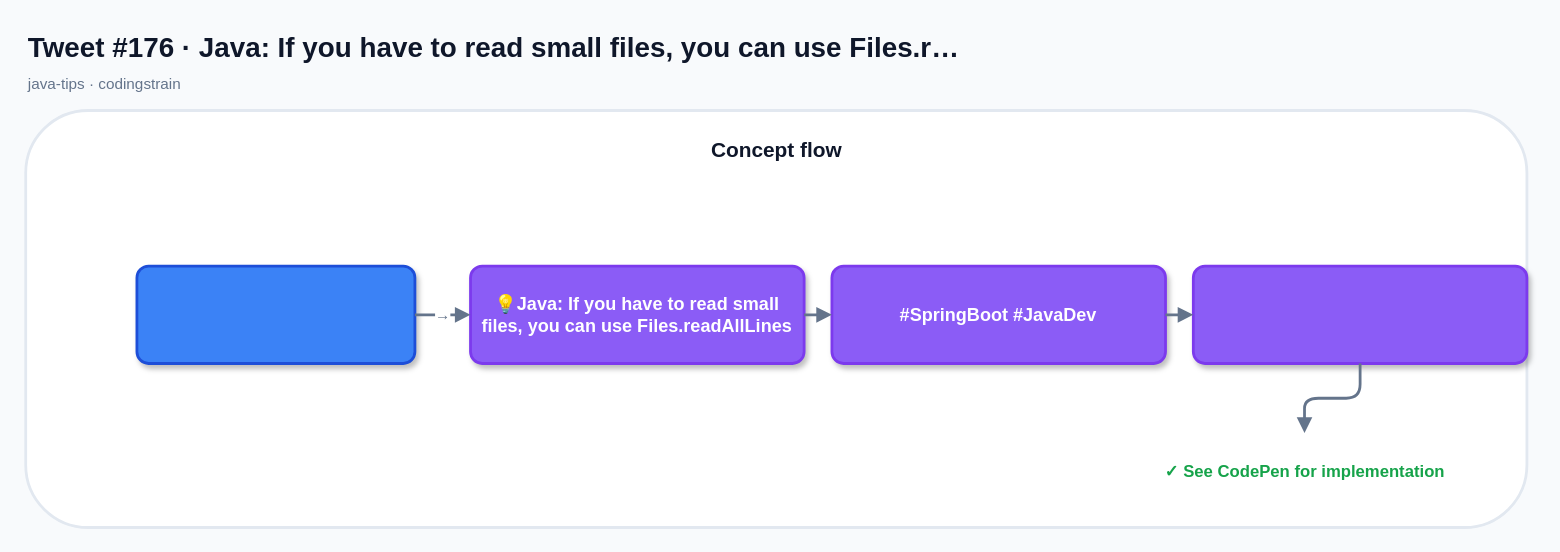
The diagram is 1560 pixels wide and 552 high, and some of its shapes have lost their labels. Here are the shapes that lost their labels. From the top down, the centre of each, then its label:
pixel 276 316: Problem / context
pixel 1361 316: Runnable sample: `java-tips`
